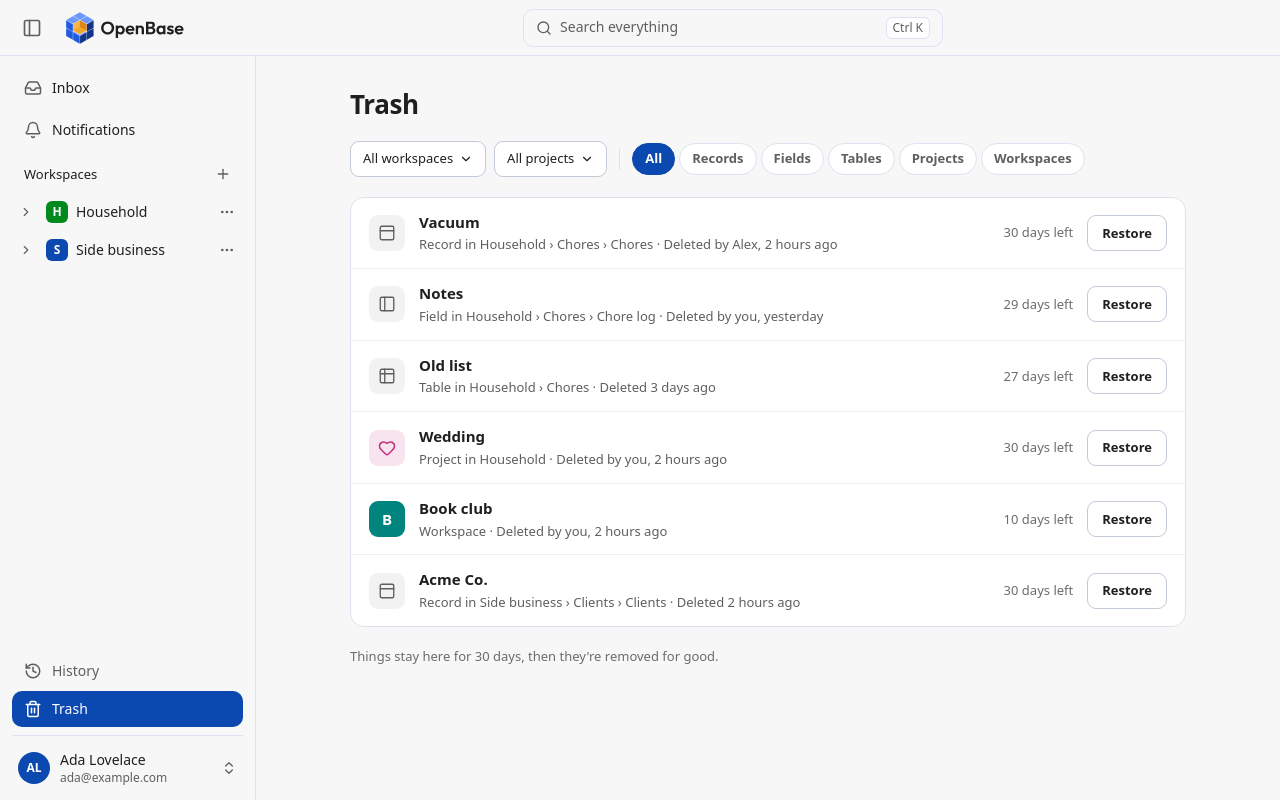
Trash page › restores an item, then lists the trash and the workspaces again
Click the button with aria-label "Restore Old list": (1127, 376) [1087, 358, 1167, 394]
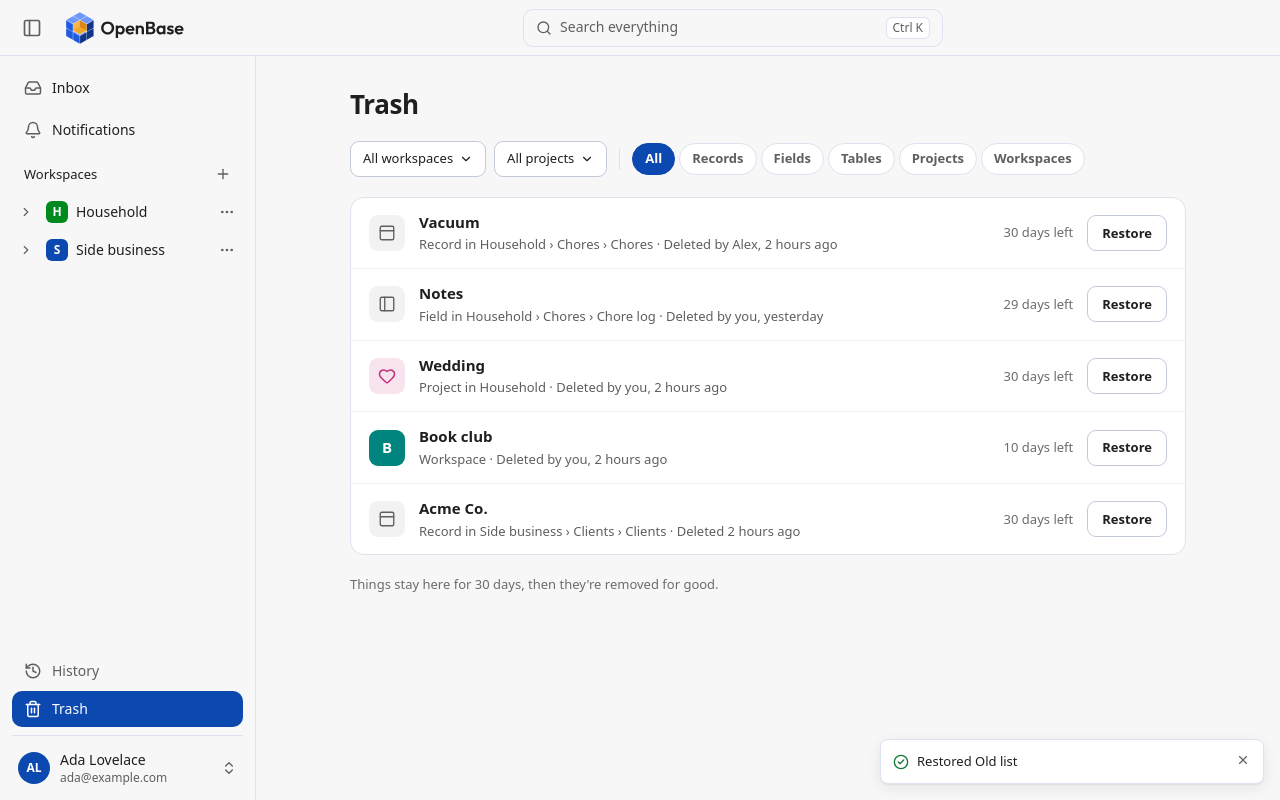
Expected: the text "Restored Old list" is shown, [917, 752, 1018, 770]
